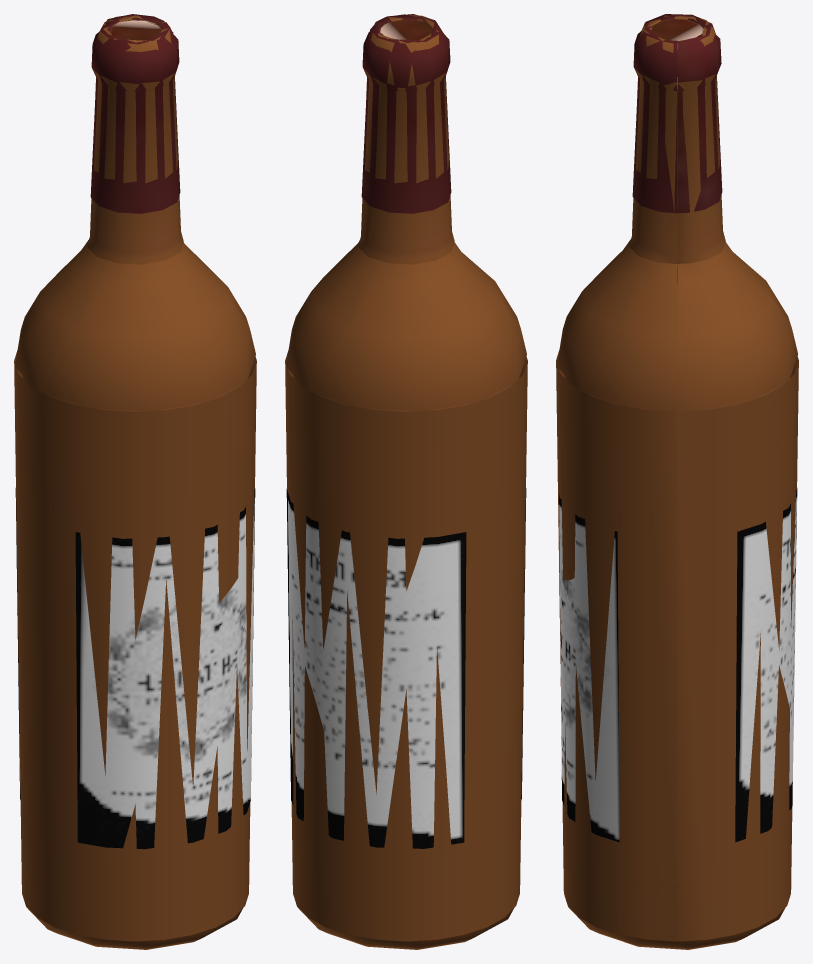
Rendered from wine_bottles_01.gltf.
3 renders of one model, left to right at view 1: azimuth 30°, elevation 25°; view 2: azimuth 150°, elevation 25°; view 3: azimuth 270°, elevation 25°, orthographic.
Parts seen in each view (by area): view 1: wine_bottles_01; view 2: wine_bottles_01; view 3: wine_bottles_01.
Part boxes in pixels (left/top/right/bottom): wine_bottles_01: left=14, top=14, right=256, bottom=949; wine_bottles_01: left=285, top=14, right=527, bottom=949; wine_bottles_01: left=556, top=14, right=798, bottom=949.
Size of the model in its own units: 0.0745 by 0.2982 by 0.0745.
Materials: 1 (1 with a texture image).
